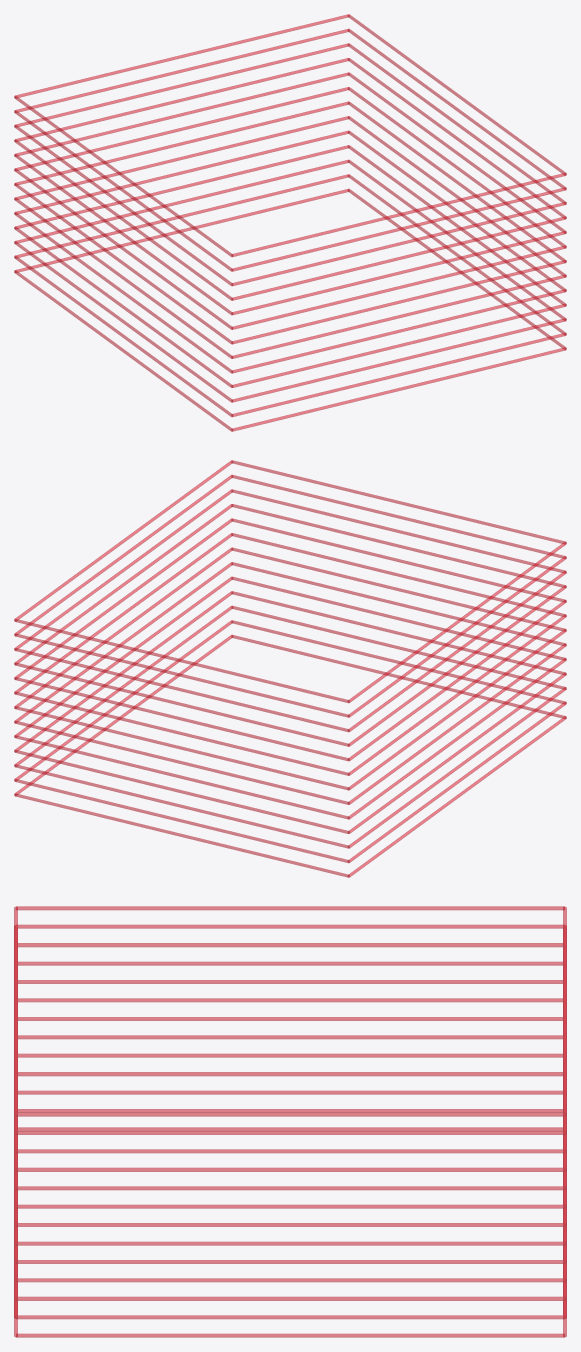
Rendered from light_curtain_laser1.dae.
3 views of the same model, one above another, from view 1: azimuth 30°, elevation 25°; view 2: azimuth 150°, elevation 25°; view 3: azimuth 270°, elevation 25° (orthographic). The views are drawn at different scales.
Visible parts, largest first — view 1: light_curtain_laser.002; view 2: light_curtain_laser.002; view 3: light_curtain_laser.002.
Part boxes in pixels (box(x1,y1,x2,y2)): light_curtain_laser.002: box(14, 14, 566, 431); light_curtain_laser.002: box(14, 460, 566, 877); light_curtain_laser.002: box(14, 906, 566, 1337).
Bounding box in the file's own units: 3.63 × 4.08 × 1.83.
